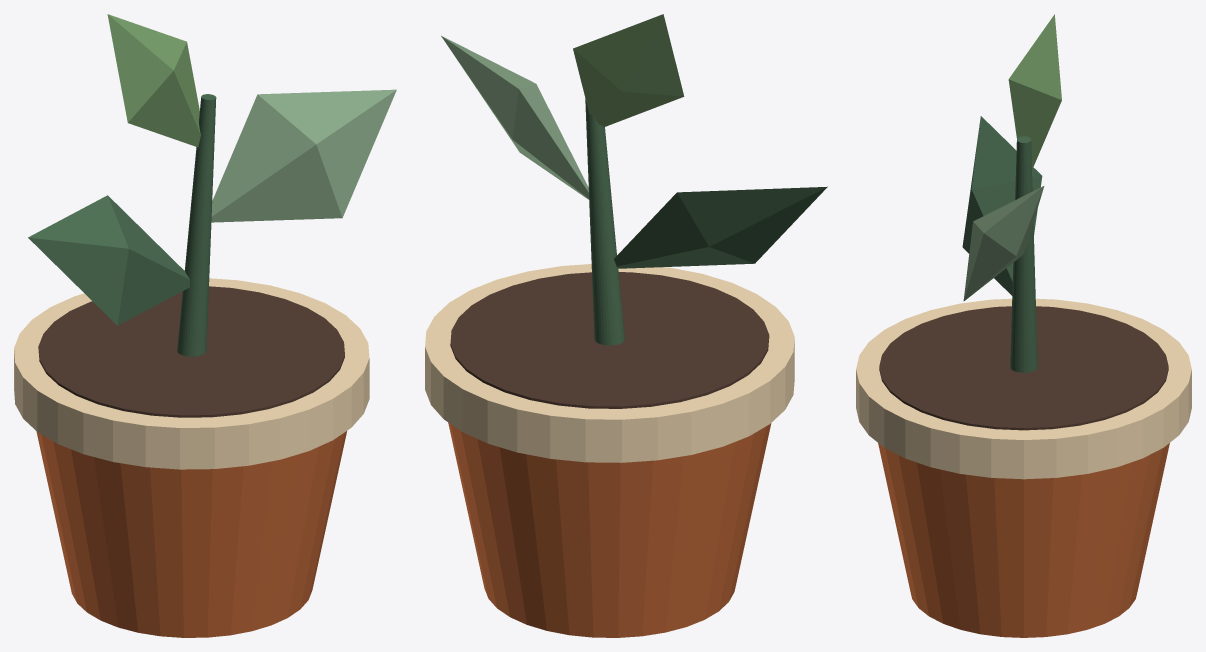
Rendered from pot.glb.
3 renders of one model, left to right at view 1: azimuth 30°, elevation 25°; view 2: azimuth 150°, elevation 25°; view 3: azimuth 270°, elevation 25°, orthographic. The views are drawn at different scales.
Visible parts, largest first — view 1: ceramic pot, soil, rim, leaf 2, leaf 1, leaf 3, stem; view 2: ceramic pot, soil, rim, leaf 1, leaf 3, leaf 2, stem; view 3: ceramic pot, soil, rim, leaf 3, leaf 2, leaf 1, stem.
Boxes of the visible parts, x1=… form: ceramic pot: x1=36, y1=431, x2=346, y2=637; soil: x1=38, y1=286, x2=344, y2=417; rim: x1=14, y1=278, x2=369, y2=469; leaf 2: x1=211, y1=89, x2=396, y2=222; leaf 1: x1=28, y1=195, x2=190, y2=325; leaf 3: x1=107, y1=14, x2=200, y2=147; stem: x1=177, y1=94, x2=216, y2=356; ceramic pot: x1=448, y1=422, x2=771, y2=637; soil: x1=450, y1=272, x2=769, y2=408; rim: x1=425, y1=264, x2=794, y2=462; leaf 1: x1=614, y1=186, x2=827, y2=268; leaf 3: x1=573, y1=14, x2=684, y2=127; leaf 2: x1=441, y1=36, x2=589, y2=199; stem: x1=585, y1=99, x2=624, y2=345; ceramic pot: x1=878, y1=443, x2=1169, y2=637; soil: x1=879, y1=306, x2=1168, y2=430; rim: x1=856, y1=298, x2=1191, y2=479; leaf 3: x1=1008, y1=14, x2=1061, y2=169; leaf 2: x1=963, y1=186, x2=1044, y2=301; leaf 1: x1=962, y1=116, x2=1042, y2=295; stem: x1=1010, y1=136, x2=1037, y2=372.
Bounding box in the file's own units: 1.31 × 1.95 × 1.09.
